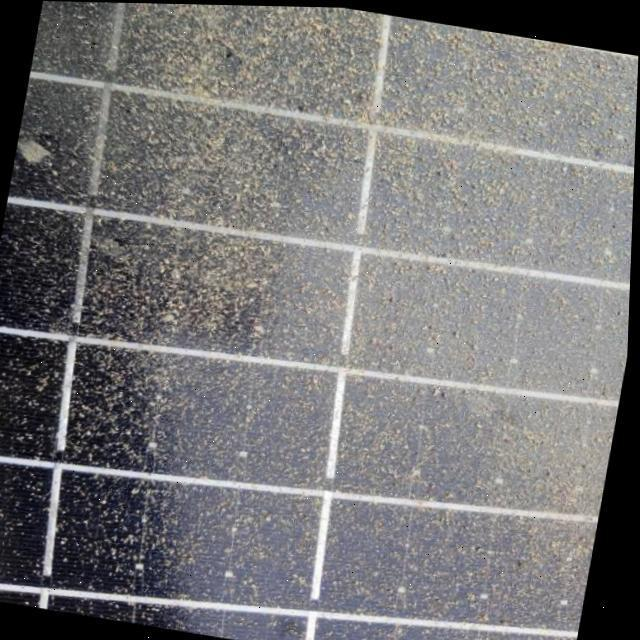Surface Contaminant: (0, 1, 597, 640)
